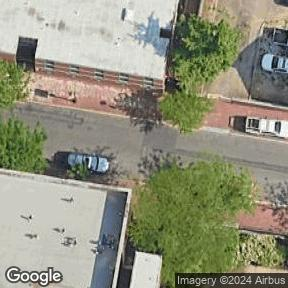vegetation: (116, 142, 261, 288), (155, 11, 244, 140), (0, 61, 47, 173), (70, 164, 88, 180)
